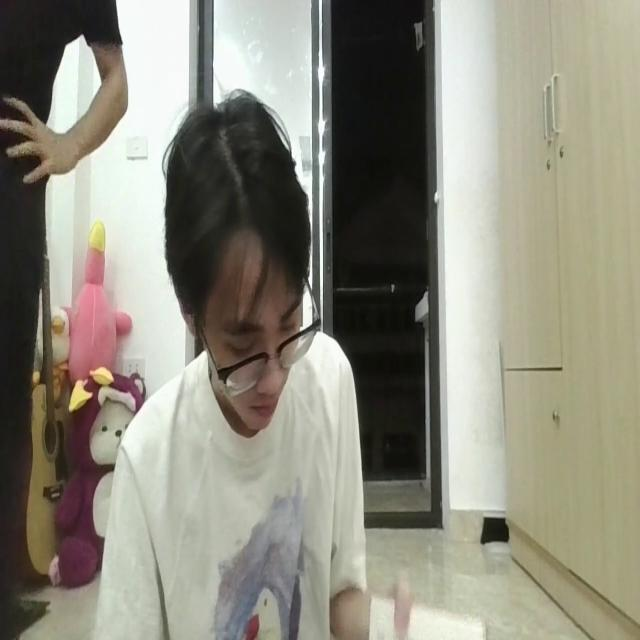student: (96, 90, 367, 640)
